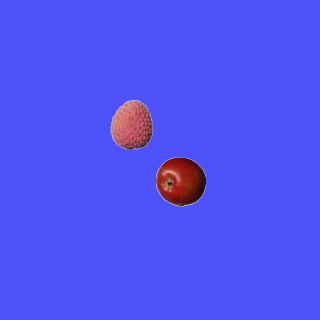Apple Braeburn: (155, 156, 205, 206)
Lychee: (106, 99, 156, 149)
